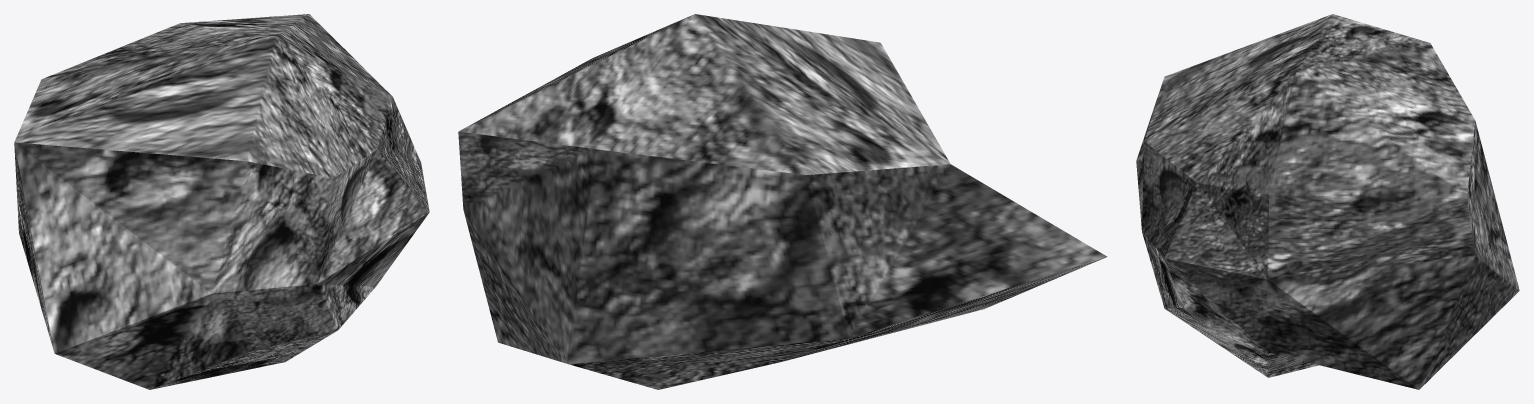
Rendered from asteroid_a.obj.
The picture shows the model from 3 angles, left to right: view 1: azimuth 30°, elevation 25°; view 2: azimuth 150°, elevation 25°; view 3: azimuth 270°, elevation 25°; orthographic projection. The views are drawn at different scales.
Visible parts, largest first — view 1: Cube; view 2: Cube; view 3: Cube.
Boxes of the visible parts, left/top/right/bottom form: Cube: left=14, top=14, right=429, bottom=389; Cube: left=458, top=14, right=1107, bottom=389; Cube: left=1136, top=14, right=1519, bottom=389.
Bounding box in the file's own units: 4.62 × 3.27 × 3.69.
